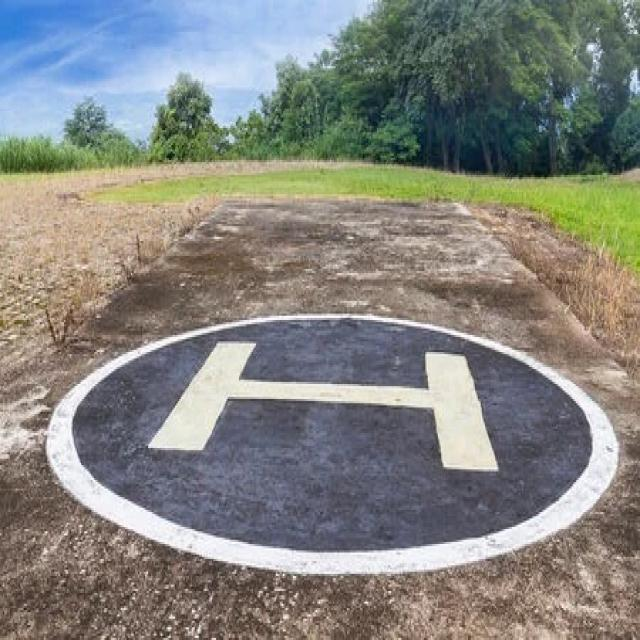helipad: (38, 305, 620, 578)
